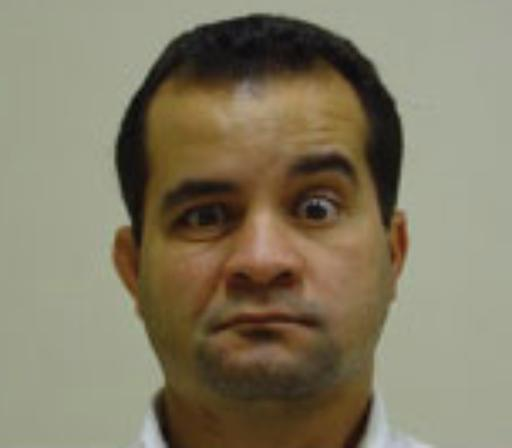left_eye: (291, 198, 347, 226)
left_lip_corner: (301, 315, 327, 336)
right_eye: (173, 204, 238, 233)
right_lip_corner: (208, 313, 238, 335)
